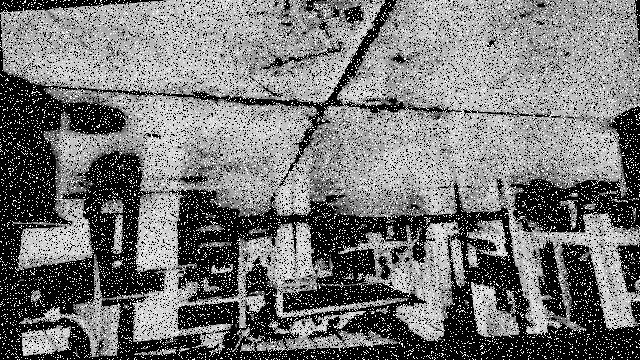pot: (4, 86, 70, 228), (614, 106, 640, 202)
